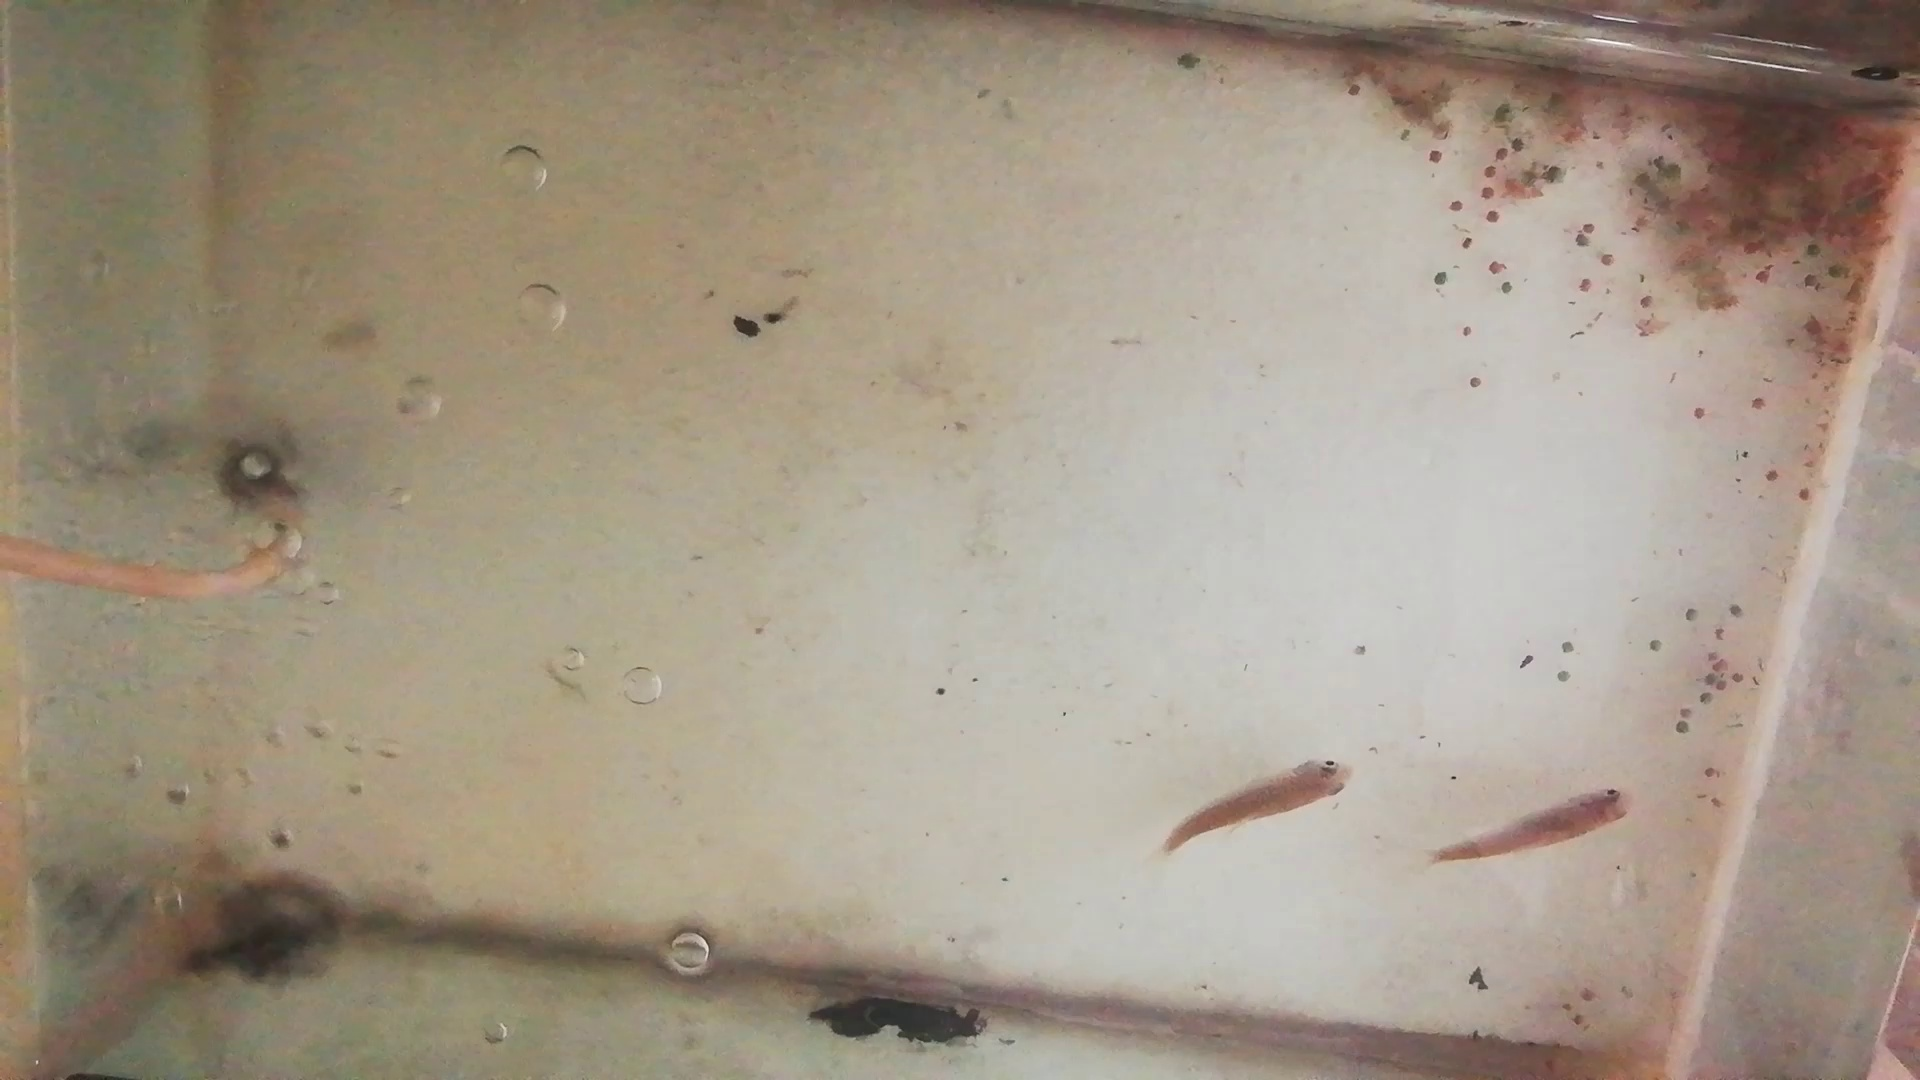fish: (1163, 758, 1357, 855), (1433, 785, 1635, 862)
